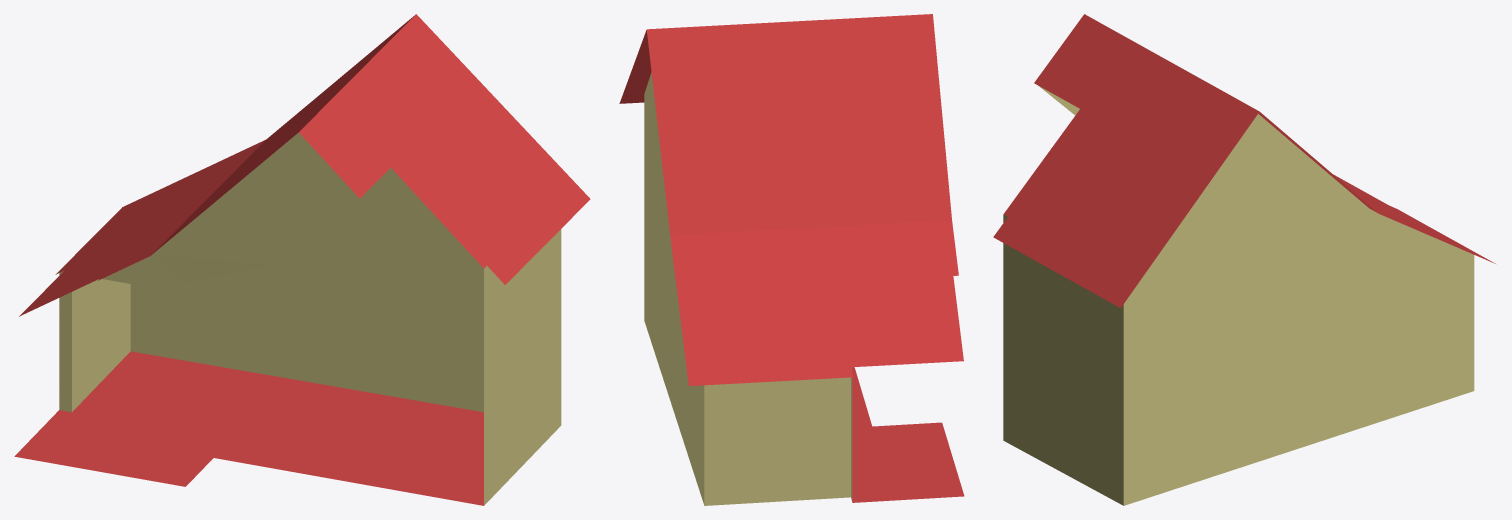
The picture shows the model from 3 angles, left to right: view 1: azimuth 30°, elevation 25°; view 2: azimuth 150°, elevation 25°; view 3: azimuth 270°, elevation 25°; orthographic projection. The views are drawn at different scales.
Bounding box in the file's own units: 23.33 × 22.73 × 17.9.
